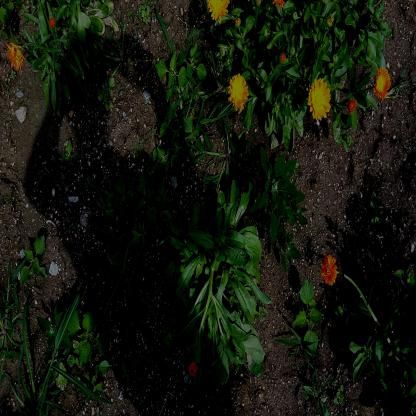marigold: (309, 76, 332, 122), (227, 72, 249, 111), (374, 66, 391, 100), (322, 253, 336, 286)
